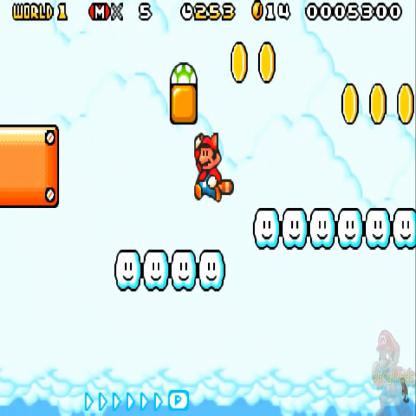Mario: (187, 134, 237, 208)
hongo: (171, 56, 200, 88)
moneda: (394, 78, 416, 130), (338, 80, 360, 128), (368, 81, 388, 127), (257, 41, 276, 87), (229, 44, 249, 84), (252, 0, 265, 26)
